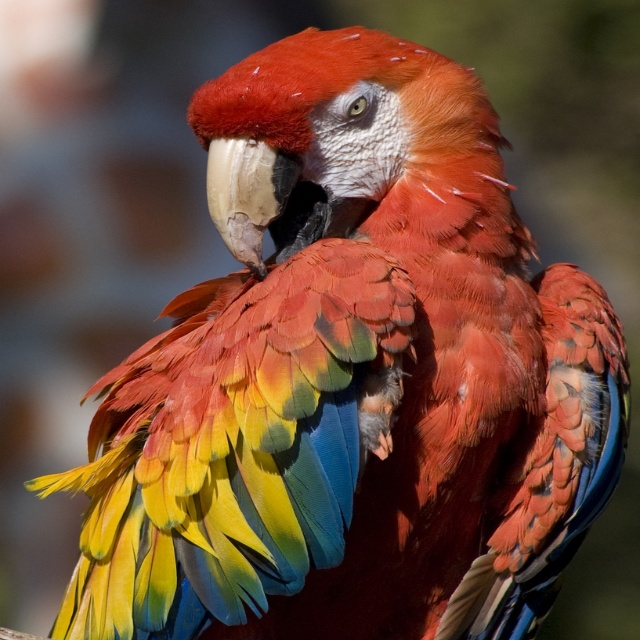Parrot: (29, 25, 629, 640)
